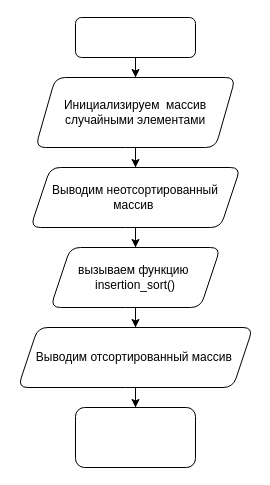
Image size: 270x485. Some labels were removed from this diagram. Here are the shapes that lost their labels. From the top down, the centre of each, then its label:
At [135,37]: "Начало".
At [135,437]: "Конец".
